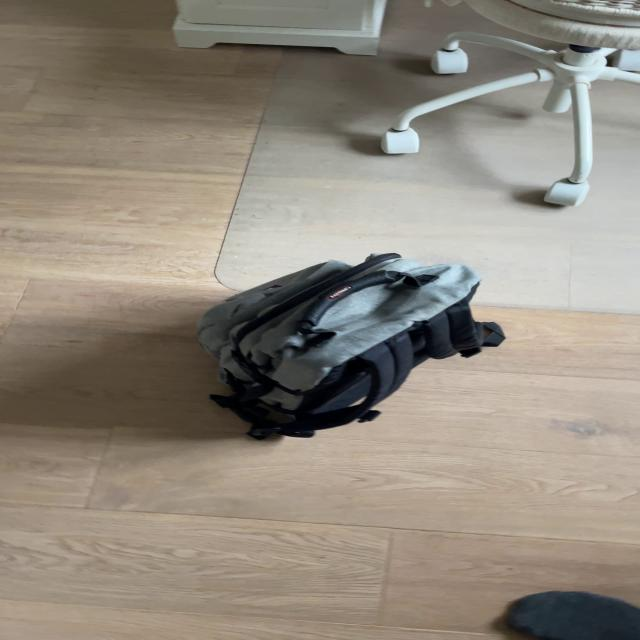backpack: (180, 243, 513, 447)
